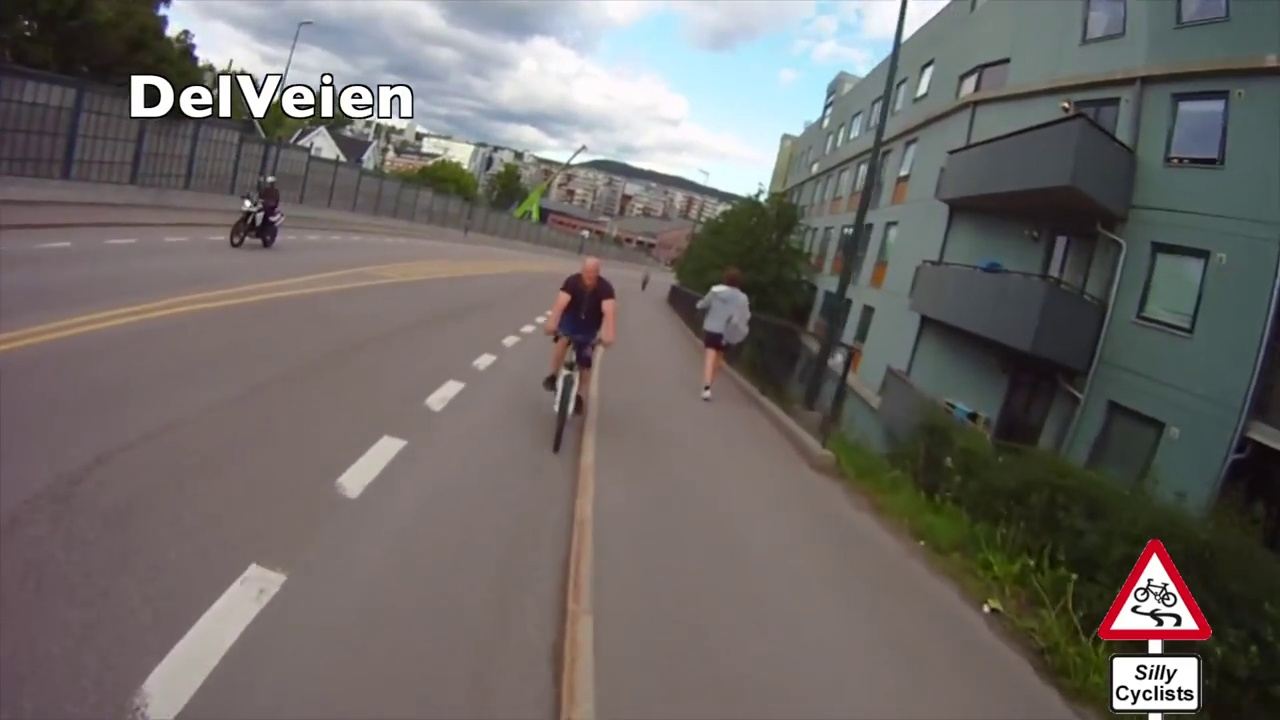cyclist_front: (539, 245, 616, 466)
